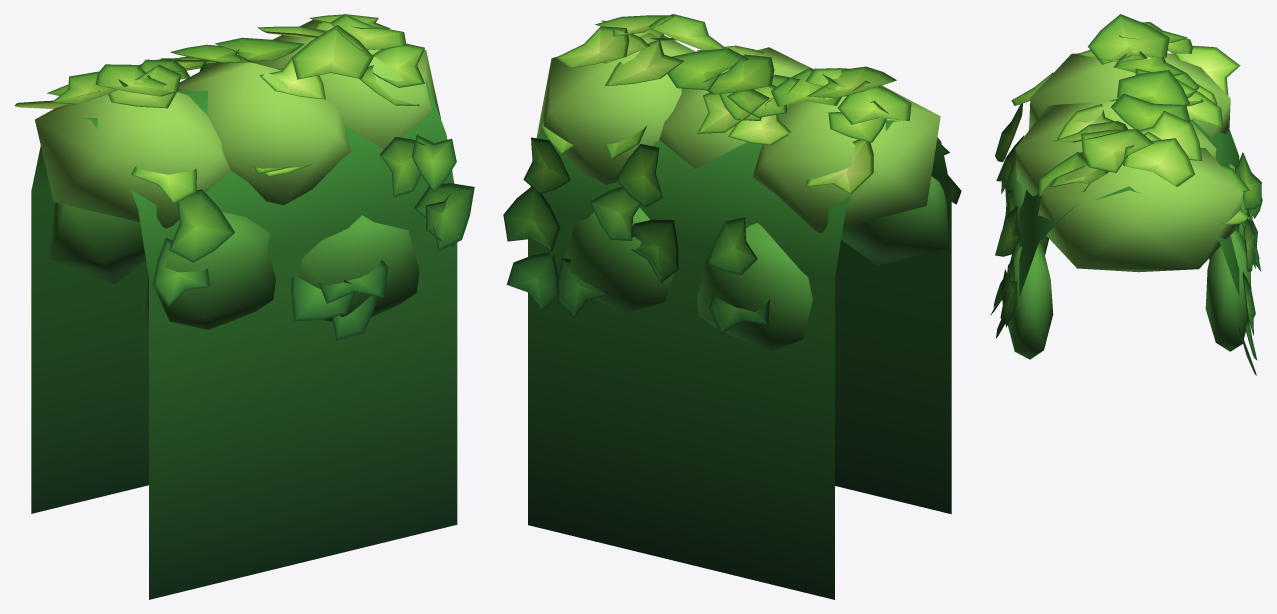
The model's file is cel_hedge.glb.
3 views of the same model, side by side, from view 1: azimuth 30°, elevation 25°; view 2: azimuth 150°, elevation 25°; view 3: azimuth 270°, elevation 25° (orthographic). The views are drawn at different scales.
Parts seen in each view (by area): view 1: hedge_body, hedge_cap, hedge_leaves; view 2: hedge_body, hedge_cap, hedge_leaves; view 3: hedge_cap, hedge_leaves, hedge_body.
Part boxes in pixels (left/top/right/bottom): hedge_body: left=31, top=68, right=457, bottom=599; hedge_cap: left=35, top=19, right=440, bottom=329; hedge_leaves: left=14, top=14, right=474, bottom=340; hedge_body: left=528, top=88, right=951, bottom=599; hedge_cap: left=536, top=33, right=948, bottom=351; hedge_leaves: left=503, top=14, right=961, bottom=334; hedge_cap: left=1005, top=50, right=1252, bottom=359; hedge_leaves: left=990, top=14, right=1262, bottom=375; hedge_body: left=1019, top=98, right=1239, bottom=296.
Bounding box in the file's own units: 2.43 × 2.95 × 1.63.
